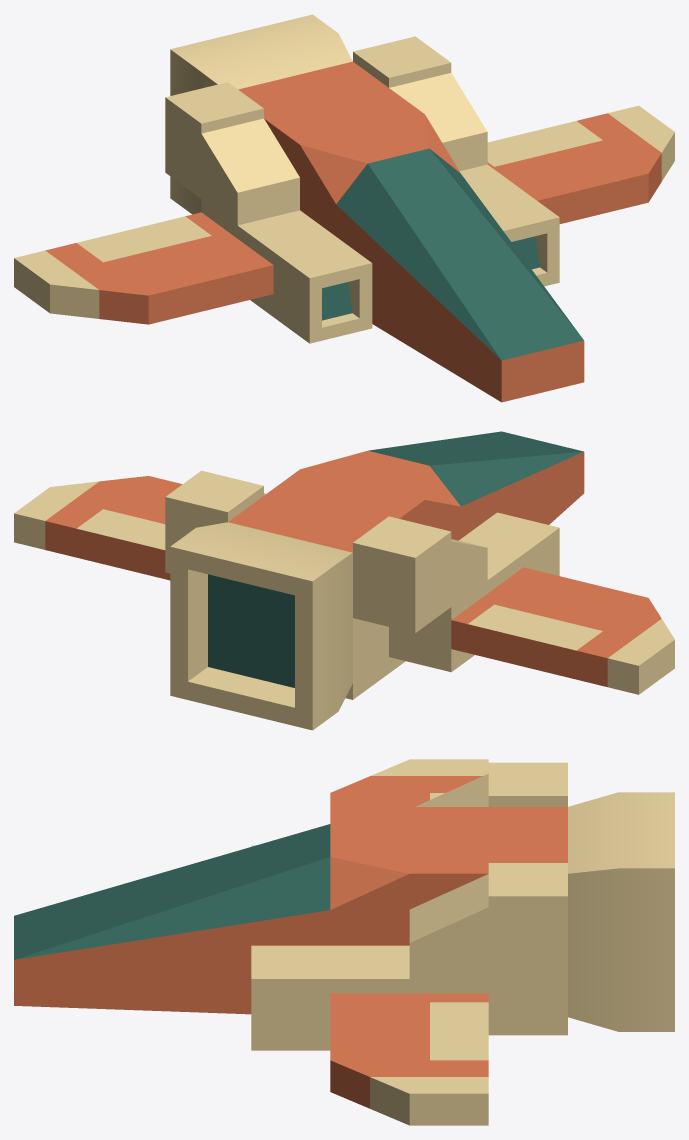
Rendered from spaceCraft1.glb.
3 views of the same model, one above another, from view 1: azimuth 30°, elevation 25°; view 2: azimuth 150°, elevation 25°; view 3: azimuth 270°, elevation 25° (orthographic). The views are drawn at different scales.
Visible parts, largest first — view 1: spaceCraft1; view 2: spaceCraft1; view 3: spaceCraft1.
Part boxes in pixels (x1=…): spaceCraft1: x1=14, y1=14, x2=674, y2=402; spaceCraft1: x1=14, y1=431, x2=674, y2=730; spaceCraft1: x1=14, y1=759, x2=674, y2=1125.
Size of the model in its own units: 1 by 0.2405 by 0.8354.
